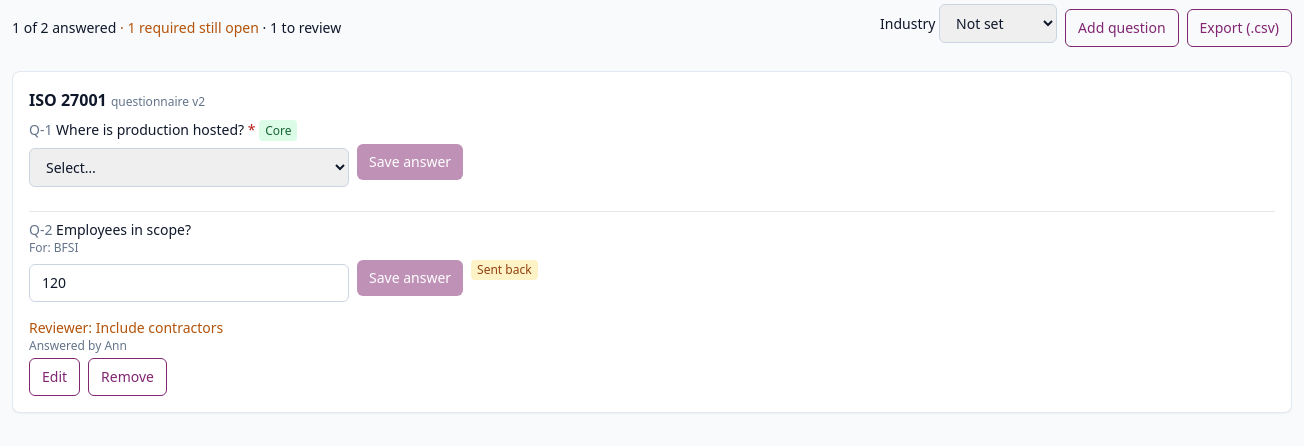
13A: core questions show no edit or remove; others do (staff only); removing needs a reason; the industry is set from the list
The image size is (1304, 446).
Later steps or results of the test are not shown.
Expected: the text "Q-1 Where is production hosted? * Core" is shown, [29, 120, 298, 141]
Expected: the text "Core" is shown once, [259, 120, 297, 141]
Click the button "Remove": (128,377) [88, 358, 167, 396]
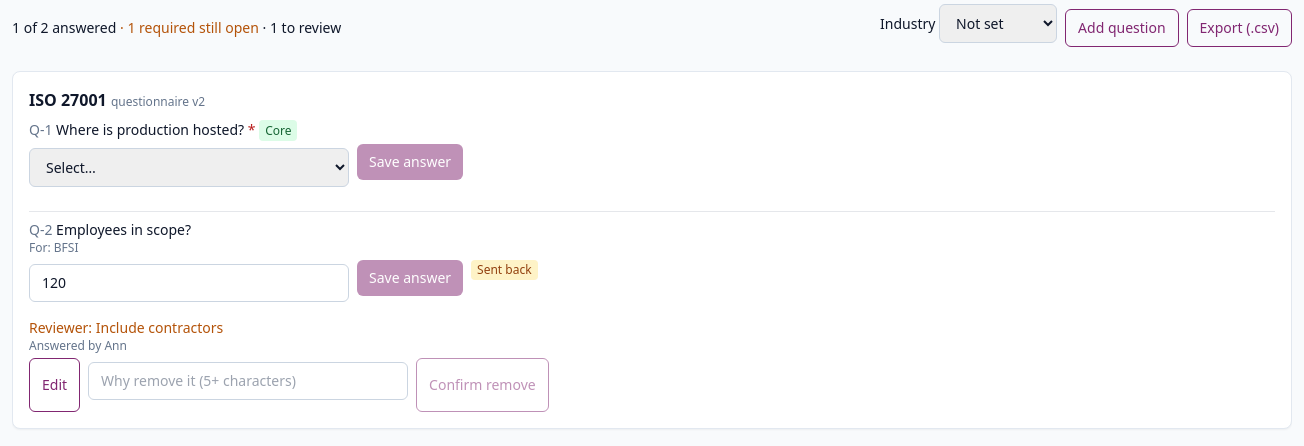
Expected: the button "Confirm remove" is disabled, [416, 358, 549, 412]
